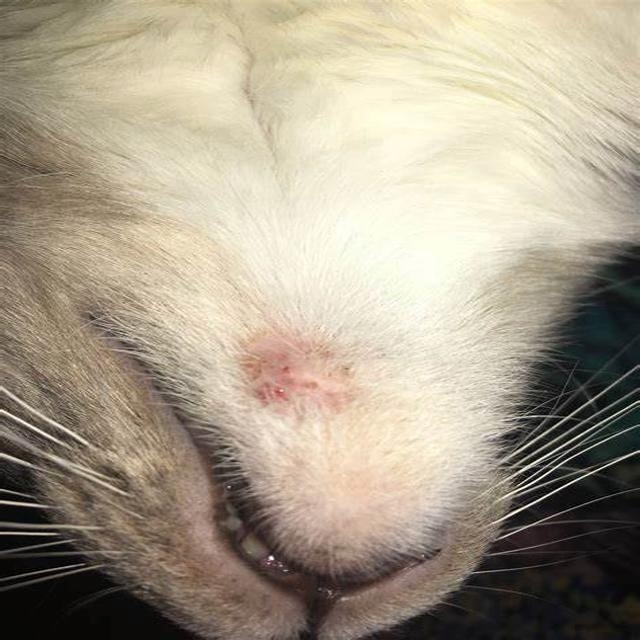acne: (238, 333, 336, 419)
